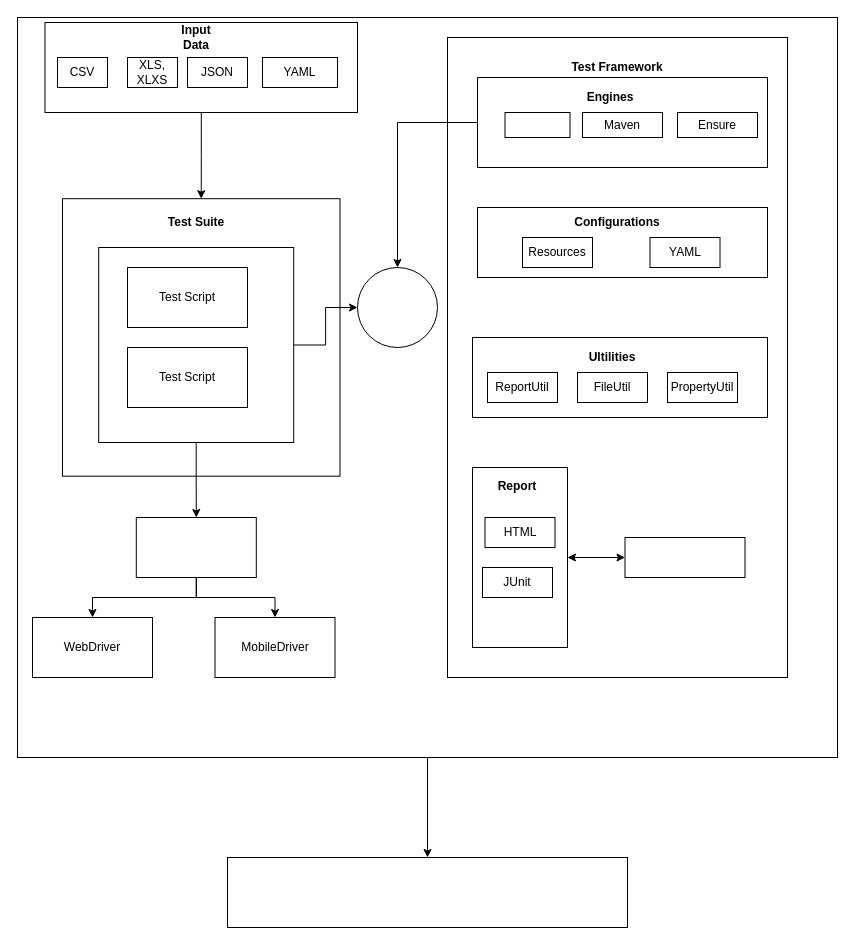
This 855x945 diagram has some shape labels left out. The centre of each missing label's shape, as x and y in pixels:
"Application Under Test" belongs at [427,892].
"Drivers" belongs at [195,547].
"POM" belongs at [397,307].
"Report Analytics" belongs at [684,557].
"TestNG" belongs at [537,125].
